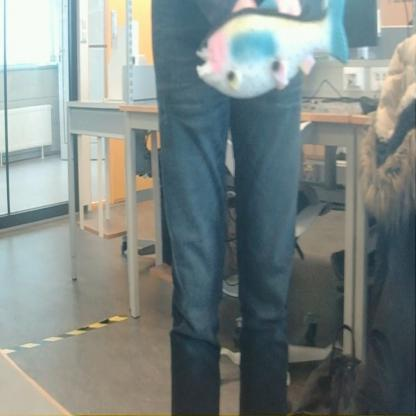rubberfish: (194, 0, 351, 109)
